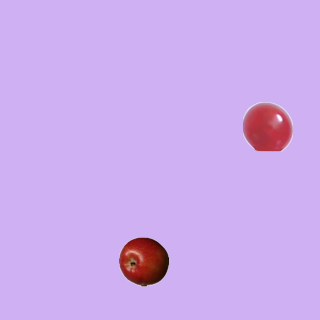Apple Braeburn: (118, 236, 168, 286)
Redcurrant: (242, 101, 292, 151)
